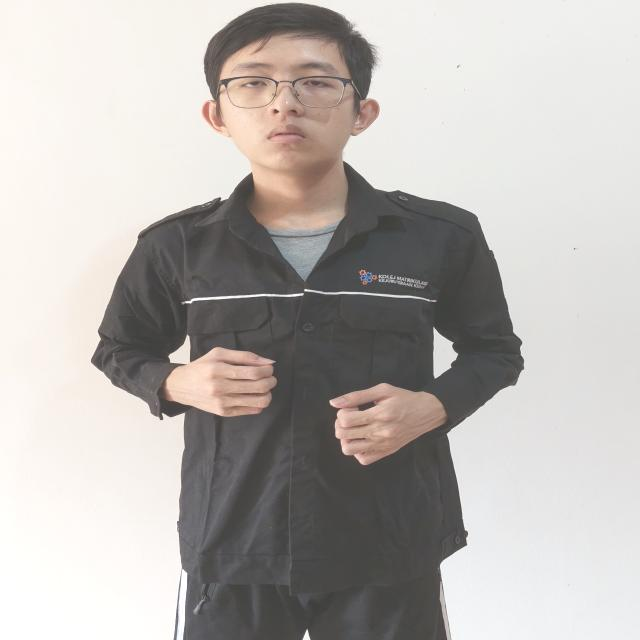person_with_labcoat: (92, 3, 523, 640)
